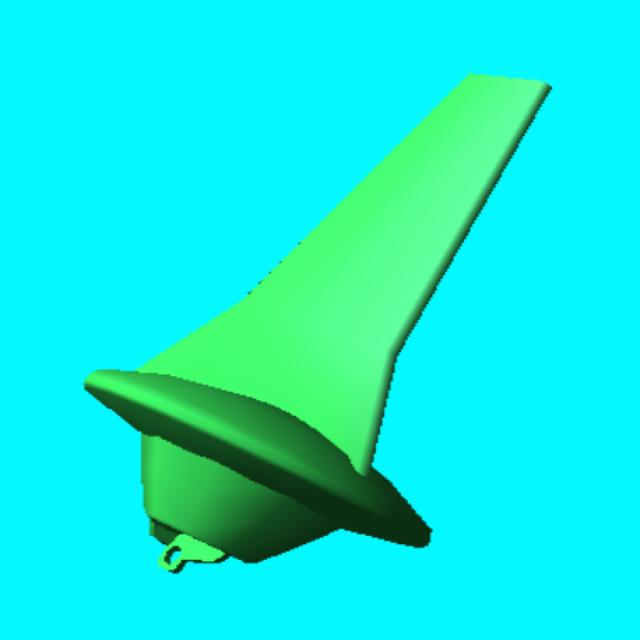GreenBuoy: (86, 75, 547, 571)
